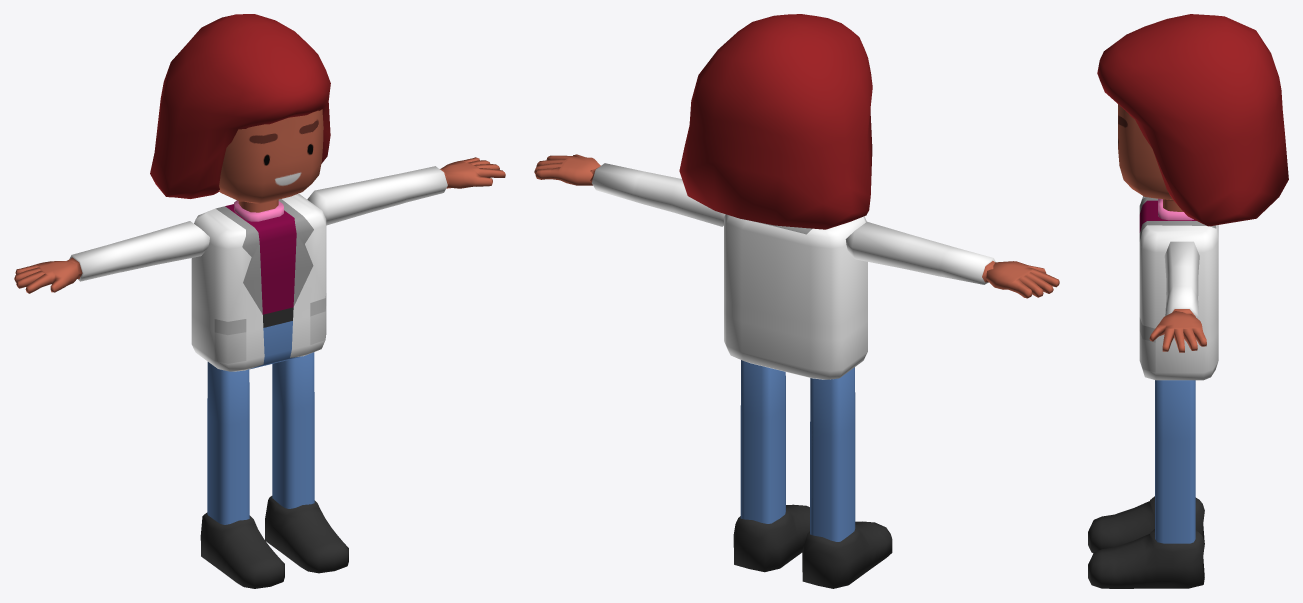
Rendered from NPC_Black01_RedHair05.gltf.
3 views of the same model, side by side, from view 1: azimuth 30°, elevation 25°; view 2: azimuth 150°, elevation 25°; view 3: azimuth 270°, elevation 25° (orthographic). The views are drawn at different scales.
Visible parts, largest first — view 1: NPC_Corpo_Black1_RedHair.005; view 2: NPC_Corpo_Black1_RedHair.005; view 3: NPC_Corpo_Black1_RedHair.005.
Part boxes in pixels (box(x1,y1,x2,y2)): NPC_Corpo_Black1_RedHair.005: box(14, 14, 505, 588); NPC_Corpo_Black1_RedHair.005: box(534, 14, 1059, 588); NPC_Corpo_Black1_RedHair.005: box(1088, 14, 1288, 588).
Size of the model in its own units: 2.31 by 2.37 by 0.7967.
1 material, 1 textured.
